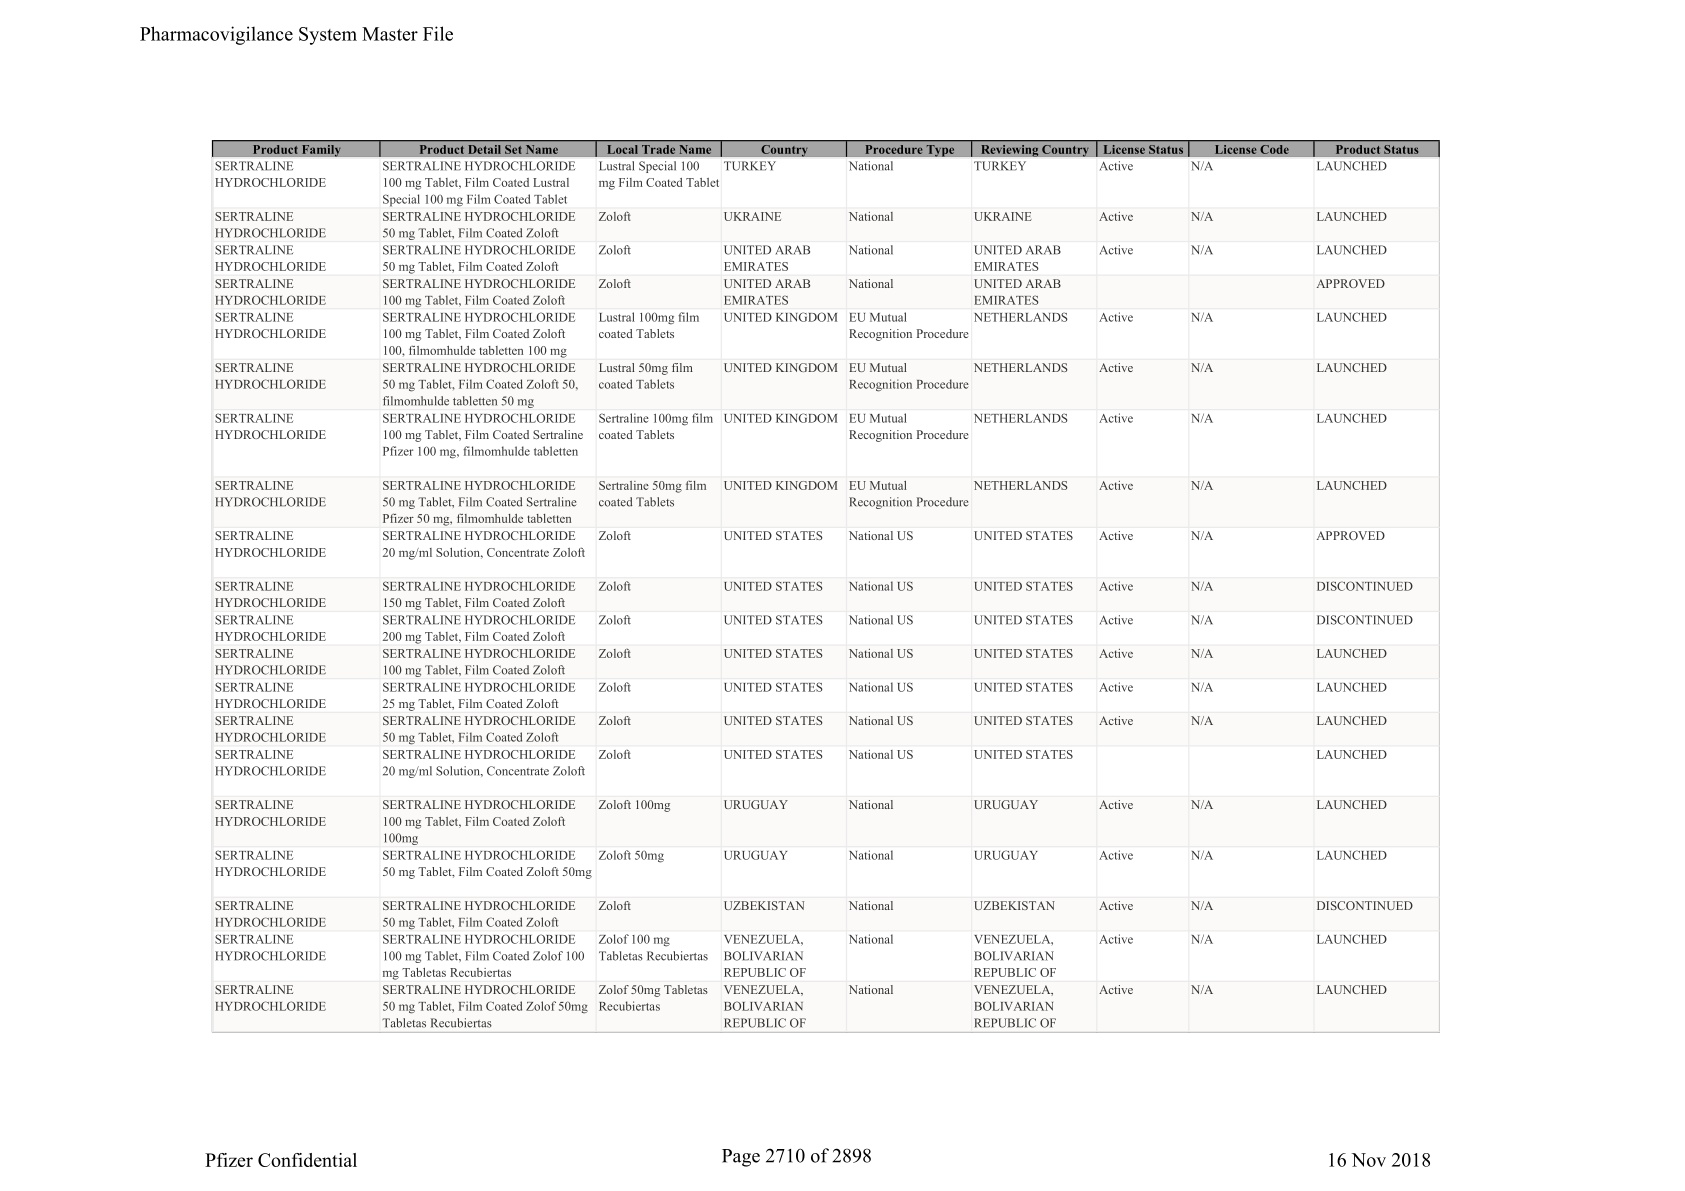full_lined: (211, 138, 1440, 1034)
